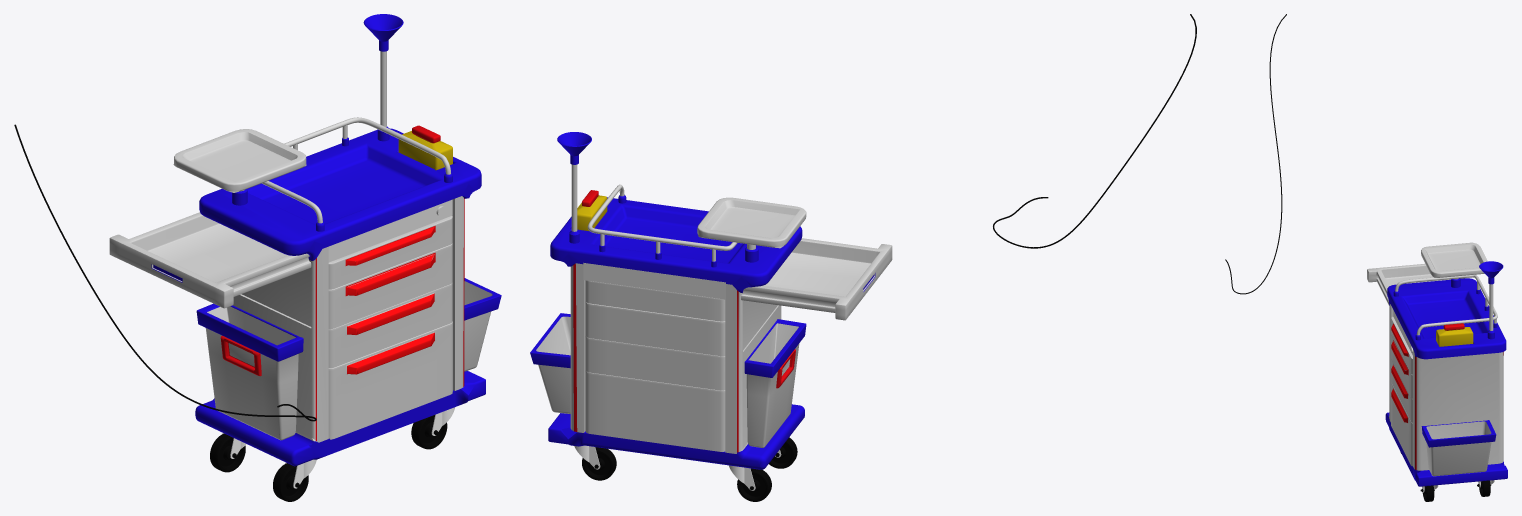
Rendered from carroParo.fbx.
3 views of the same model, side by side, from view 1: azimuth 30°, elevation 25°; view 2: azimuth 150°, elevation 25°; view 3: azimuth 270°, elevation 25° (orthographic). The views are drawn at different scales.
Visible parts, largest first — view 1: Cube.014, Cube.010, Cube.007, Cube.005, Cube.008, Cube.012, Cube.004, Cube.013, Cube.006, Cube.009, NurbsPath.002, Cube.011 (+6 smaller); view 2: Cube.014, Cube.005, Cube.010, Cube.007, Cube.012, Cube.004, Cube.008, Cube.013, Cube.006, Cube.009, NurbsPath.002, NurbsPath.001 (+3 smaller); view 3: Cube.014, Cube.006, Cube.008, Cube.010, Cube.005, NurbsPath.002, Cube.011, NurbsPath.001, Cube.012, Cube.004, Cube.013, Cylinder.017.
Boxes of the visible parts, bbox=[...] form: Cube.014: bbox=[195, 128, 485, 466]; Cube.010: bbox=[109, 212, 311, 308]; Cube.007: bbox=[196, 303, 303, 440]; Cube.005: bbox=[328, 321, 452, 439]; Cube.008: bbox=[173, 129, 306, 192]; Cube.012: bbox=[328, 243, 452, 329]; Cube.004: bbox=[328, 283, 452, 368]; Cube.013: bbox=[328, 216, 452, 289]; Cube.006: bbox=[464, 278, 501, 371]; Cube.009: bbox=[328, 199, 452, 262]; NurbsPath.002: bbox=[262, 117, 450, 223]; Cube.011: bbox=[398, 125, 452, 170]; Cube.014: bbox=[548, 197, 804, 469]; Cube.005: bbox=[585, 370, 725, 451]; Cube.010: bbox=[741, 238, 892, 320]; Cube.007: bbox=[744, 319, 806, 447]; Cube.012: bbox=[585, 301, 725, 356]; Cube.004: bbox=[585, 336, 725, 390]; Cube.008: bbox=[697, 197, 806, 248]; Cube.013: bbox=[585, 280, 725, 321]; Cube.006: bbox=[530, 313, 570, 413]; Cube.009: bbox=[583, 263, 725, 299]; NurbsPath.002: bbox=[587, 184, 737, 250]; NurbsPath.001: bbox=[993, 14, 1196, 248]; Cube.014: bbox=[1385, 278, 1507, 486]; Cube.006: bbox=[1421, 420, 1496, 476]; Cube.008: bbox=[1421, 242, 1487, 277]; Cube.010: bbox=[1367, 263, 1468, 305]; Cube.005: bbox=[1391, 382, 1412, 466]; NurbsPath.002: bbox=[1395, 274, 1497, 335]; Cube.011: bbox=[1436, 323, 1473, 346]; NurbsPath.001: bbox=[1225, 14, 1286, 294]; Cube.012: bbox=[1391, 335, 1412, 398]; Cube.004: bbox=[1391, 359, 1412, 422]; Cube.013: bbox=[1391, 316, 1412, 374]; Cylinder.017: bbox=[1479, 261, 1503, 284].
Size of the model in its own units: 318 by 270 by 211.
